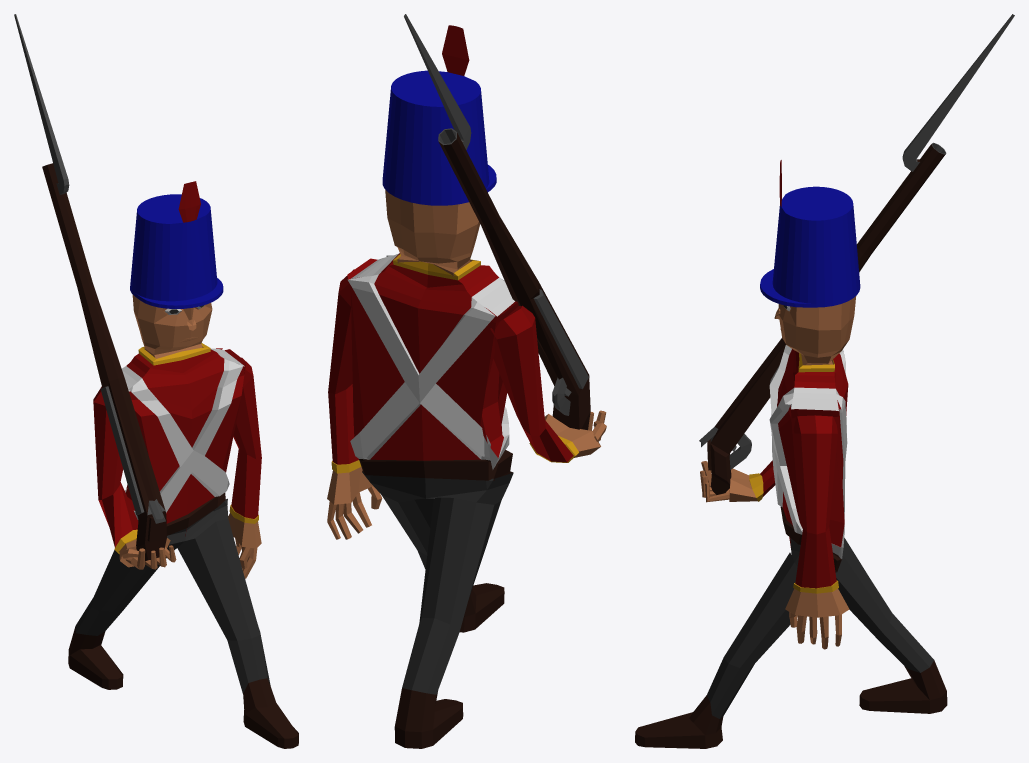
File: frame5.obj
The picture shows the model from 3 angles, left to right: view 1: azimuth 30°, elevation 25°; view 2: azimuth 150°, elevation 25°; view 3: azimuth 270°, elevation 25°; orthographic projection. The views are drawn at different scales.
Visible parts, largest first — view 1: {Man}_Circle, {Mesket}_Cube.001; view 2: {Man}_Circle, {Mesket}_Cube.001; view 3: {Man}_Circle, {Mesket}_Cube.001.
Boxes of the visible parts, x1,y1,x2,y2 form: {Man}_Circle: (68,181,298,748); {Mesket}_Cube.001: (14,14,167,561); {Man}_Circle: (327,25,606,748); {Mesket}_Cube.001: (404,14,590,430); {Man}_Circle: (635,160,947,748); {Mesket}_Cube.001: (699,14,1014,494).
Bounding box in the file's own units: 5.63 × 18.72 × 9.53.
